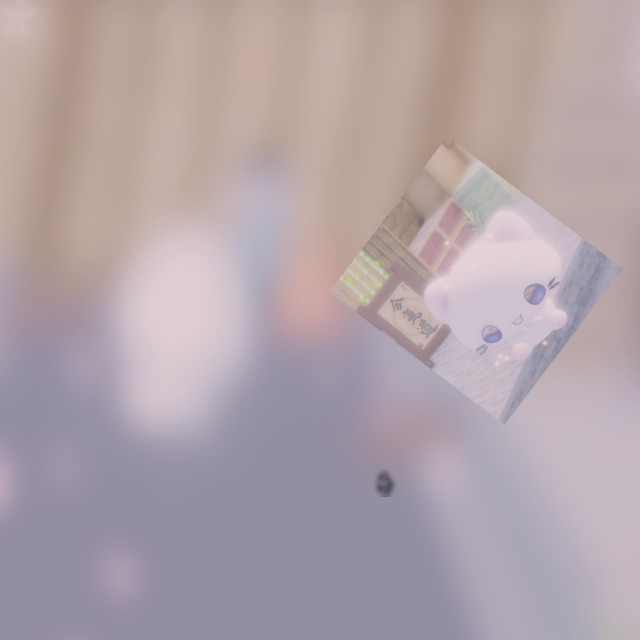urso_branco: (329, 136, 623, 425)
urso_preto: (373, 469, 397, 497)
